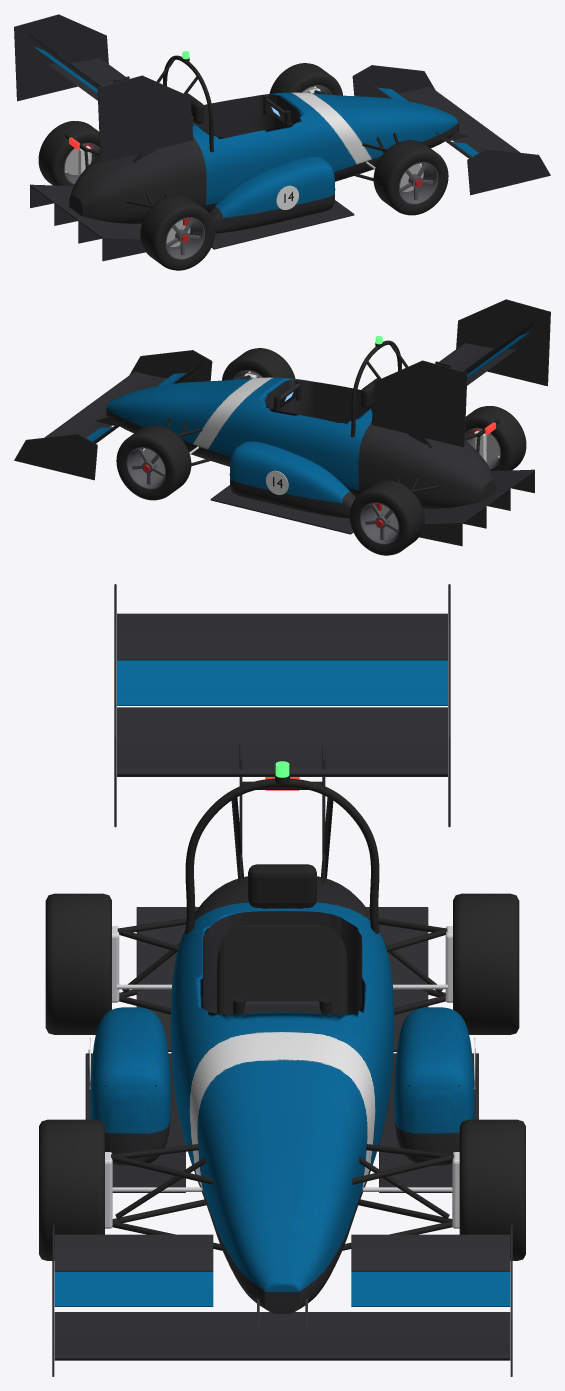
Rendered from formula_student.glb.
3 renders of one model, top to bottom at view 1: azimuth 30°, elevation 25°; view 2: azimuth 150°, elevation 25°; view 3: azimuth 270°, elevation 25°, orthographic. The views are drawn at different scales.
Visible parts, largest first — view 1: FS_Lackierung, FS_Carbon, FS_Reifen, FS_Carbon_matt, FS_Felge, FS_Schwarz_matt, FS_Bremsscheibe, FS_Lack_Blau, FS_Lack_Weiss; view 2: FS_Lackierung, FS_Carbon, FS_Reifen, FS_Carbon_matt, FS_Felge, FS_Schwarz_matt, FS_Bremsscheibe, FS_Lack_Blau, FS_Lack_Weiss; view 3: FS_Lackierung, FS_Carbon, FS_Reifen, FS_Schwarz_matt, FS_Lack_Blau, FS_Carbon_matt, FS_Aluminium, FS_Stahl.
Boxes of the visible parts, x1,y1,x2,y2 form: FS_Lackierung: [69, 92, 458, 233]; FS_Carbon: [14, 14, 550, 195]; FS_Reifen: [38, 63, 448, 270]; FS_Carbon_matt: [30, 116, 354, 261]; FS_Felge: [63, 85, 438, 259]; FS_Schwarz_matt: [65, 55, 398, 207]; FS_Bremsscheibe: [65, 87, 423, 246]; FS_Lack_Blau: [34, 46, 478, 156]; FS_Lack_Weiss: [276, 185, 298, 209]; FS_Lackierung: [106, 377, 495, 518]; FS_Carbon: [14, 299, 550, 480]; FS_Reifen: [116, 348, 526, 555]; FS_Carbon_matt: [210, 400, 534, 546]; FS_Felge: [126, 370, 501, 544]; FS_Schwarz_matt: [166, 340, 499, 492]; FS_Bremsscheibe: [141, 372, 499, 531]; FS_Lack_Blau: [86, 331, 530, 441]; FS_Lack_Weiss: [266, 470, 288, 494]; FS_Lackierung: [90, 876, 474, 1313]; FS_Carbon: [52, 584, 512, 1376]; FS_Reifen: [39, 893, 525, 1260]; FS_Schwarz_matt: [88, 774, 475, 1250]; FS_Lack_Blau: [54, 660, 510, 1306]; FS_Carbon_matt: [85, 907, 478, 1192]; FS_Aluminium: [105, 926, 459, 1228]; FS_Stahl: [112, 984, 452, 1191].
Bounding box in the file's own units: 2.93 × 1.21 × 1.41.
Materials: 16 (1 with a texture image).
